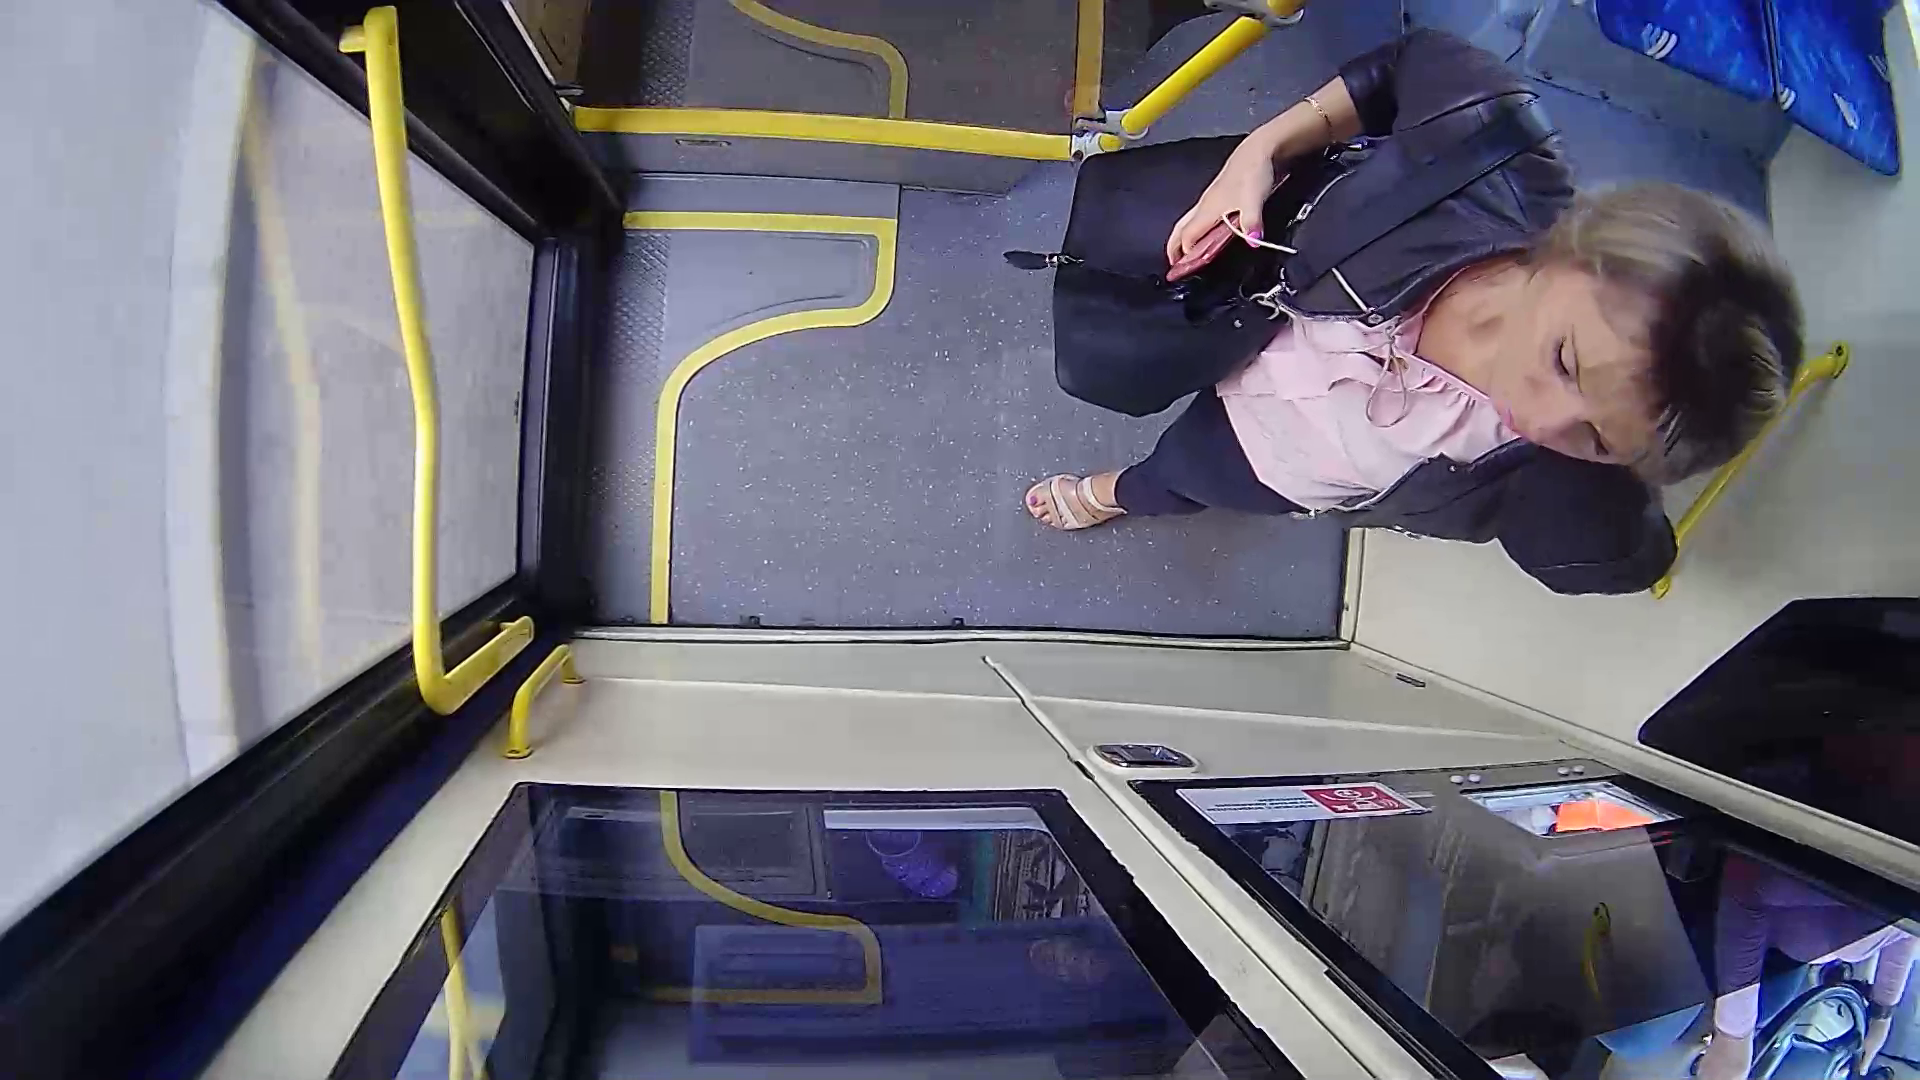person: (1039, 50, 1805, 649)
